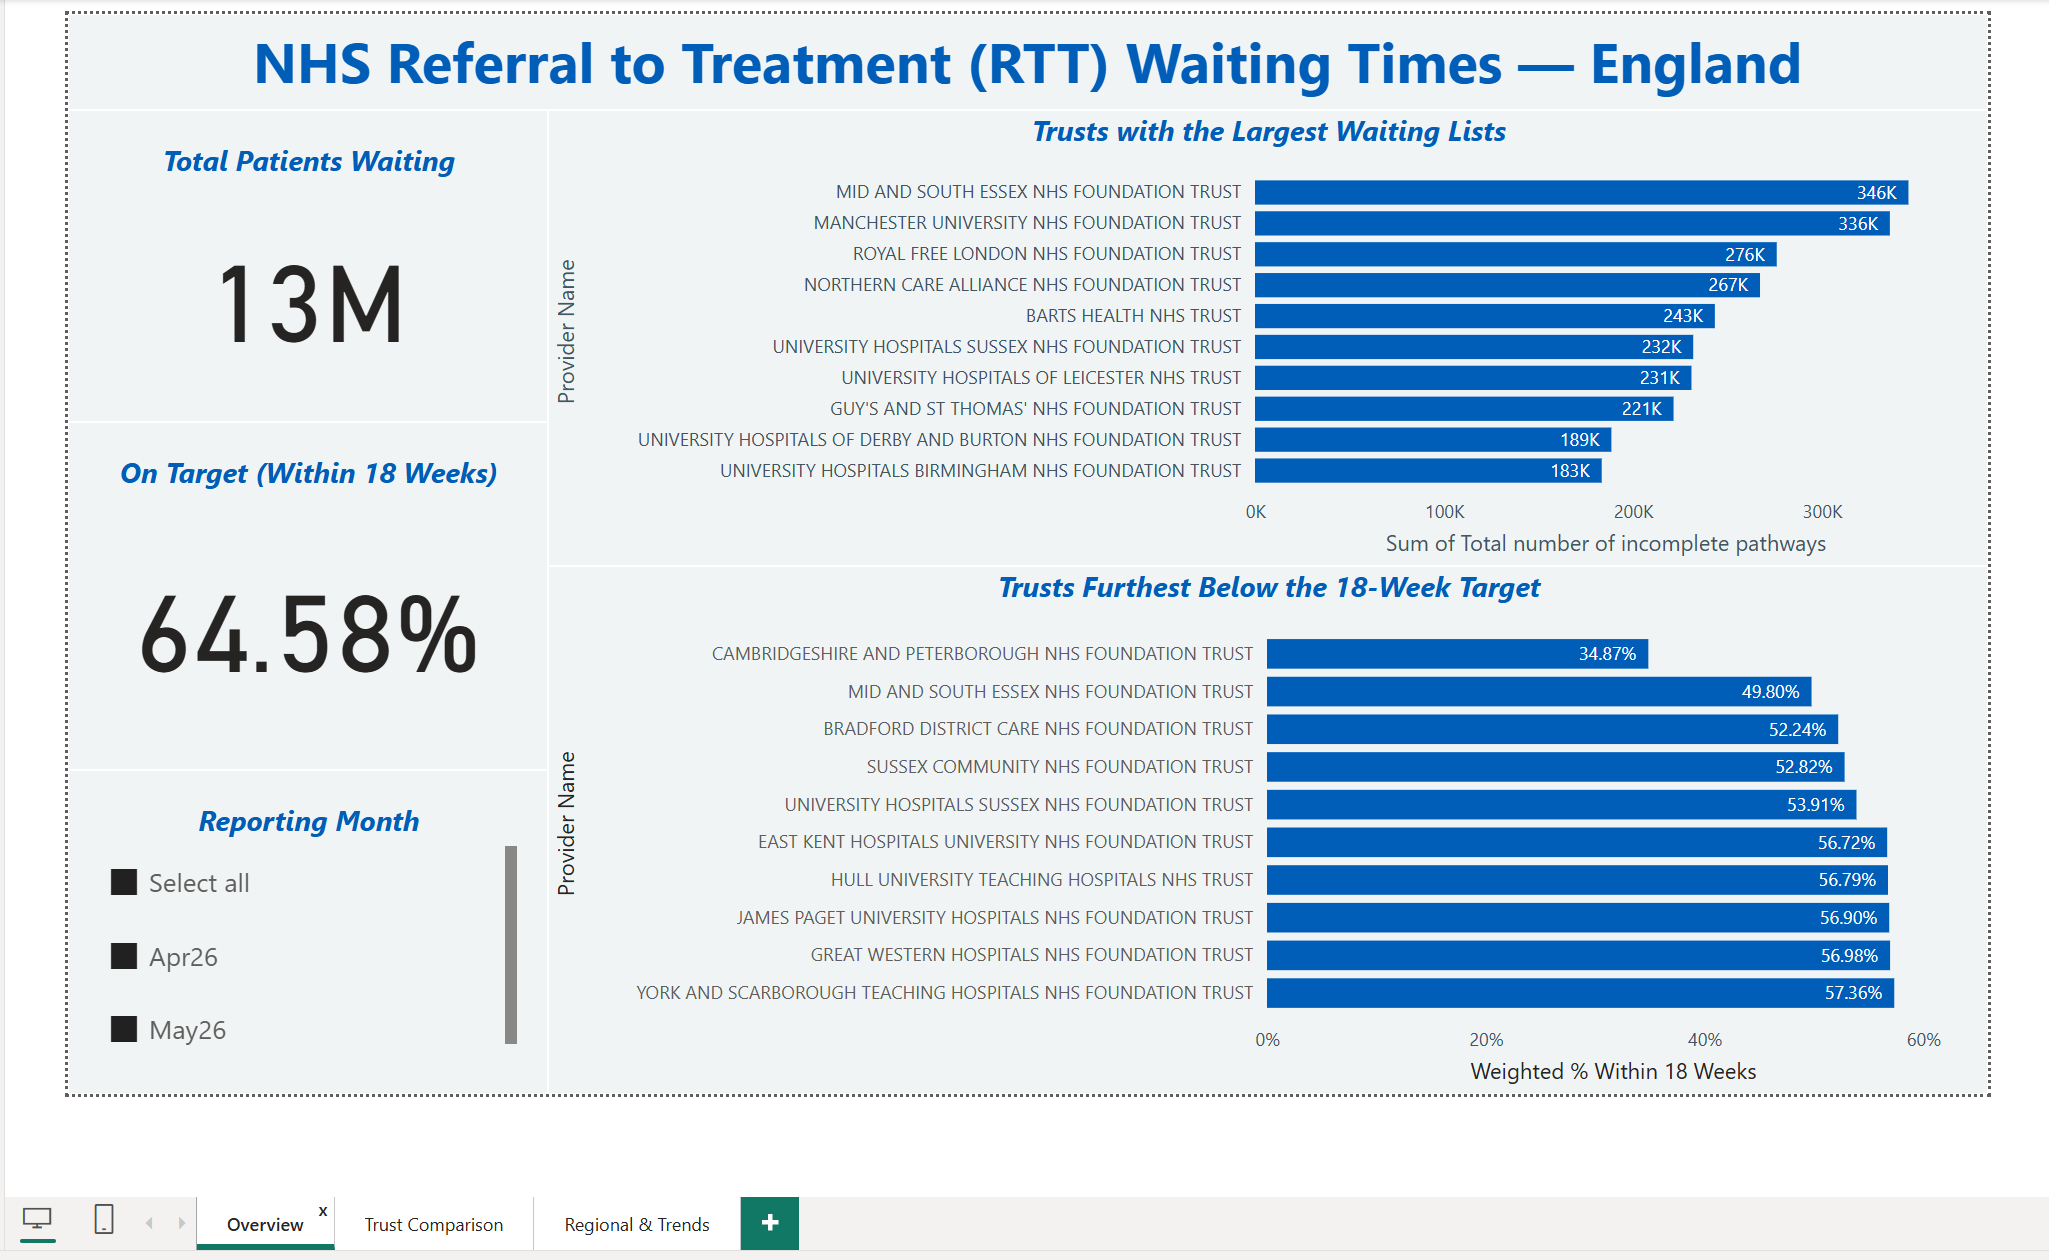

The dashboard page shown, as its layout file describes it:
{"tool":"powerbi","page":{"name":"Overview","canvas":[1280,720],"ordinal":0},"visuals":[{"type":"card","fields":{"Values":["Incomplete_Provider_Combined.Weighted % Within 18 Weeks"]},"box":[288,80,288,112],"z":0},{"type":"card","fields":{"Values":["Incomplete_Provider_Combined.Total Incomplete Pathways"]},"box":[0,80,288,112],"z":1},{"type":"slicer","fields":{"Values":["Incomplete_Provider_Combined.Month"]},"box":[1128,80,152,112],"z":2},{"type":"clusteredBarChart","fields":{"Category":["Incomplete_Provider_Combined.Provider Name"],"Y":["Sum(Incomplete_Provider_Combined.Total number of incomplete pathways)"]},"box":[0,192,1280,288],"z":3},{"type":"clusteredBarChart","fields":{"Category":["Incomplete_Provider_Combined.Provider Name"],"Y":["Incomplete_Provider_Combined.Weighted % Within 18 Weeks"]},"box":[0,480,1280,240],"z":4}]}

Visuals, with their boxes on the page's 1280x720 design canvas (x1, y1, x2, y2). These are canvas units, not pixel positions in the 2049x1260 screenshot, which may show the page scaled, cropped or inside an application window:
card - Incomplete_Provider_Combined.Weighted % Within 18 Weeks: pyautogui.locateOnScreen(288, 80, 576, 192)
card - Incomplete_Provider_Combined.Total Incomplete Pathways: pyautogui.locateOnScreen(0, 80, 288, 192)
slicer - Incomplete_Provider_Combined.Month: pyautogui.locateOnScreen(1128, 80, 1280, 192)
clusteredBarChart - Incomplete_Provider_Combined.Provider Name x Sum(Incomplete_Provider_Combined.Total number of incomplete pathways): pyautogui.locateOnScreen(0, 192, 1280, 480)
clusteredBarChart - Incomplete_Provider_Combined.Provider Name x Incomplete_Provider_Combined.Weighted % Within 18 Weeks: pyautogui.locateOnScreen(0, 480, 1280, 720)
